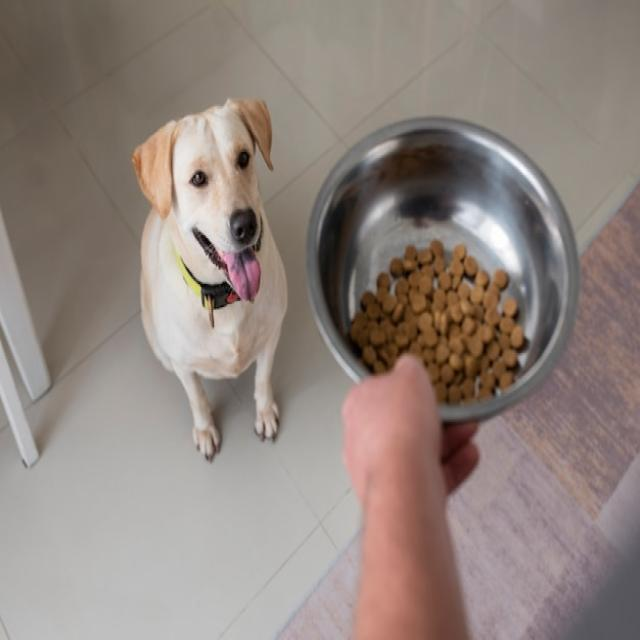Dog: (132, 98, 288, 462)
